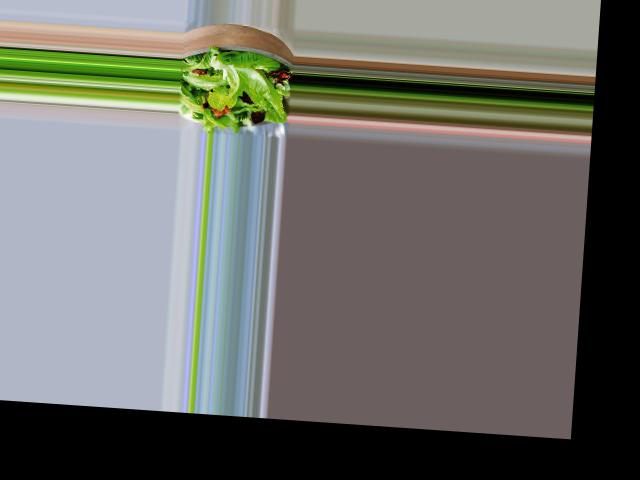lettuce: (183, 47, 283, 131)
